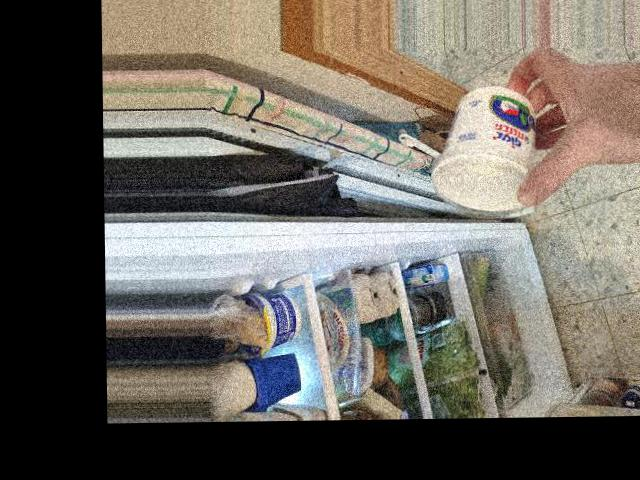cotage: (435, 85, 545, 209)
